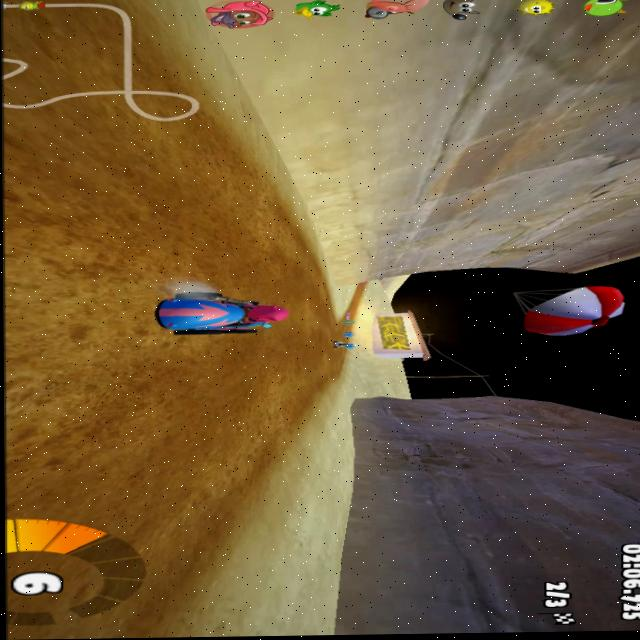bonus: (347, 329, 360, 337), (344, 320, 360, 324)
player_kart: (135, 292, 293, 341)
track: (2, 295, 137, 638), (1, 124, 241, 296), (136, 339, 286, 463), (7, 5, 148, 127), (135, 464, 259, 542), (139, 542, 221, 617), (241, 214, 288, 293), (290, 314, 341, 376), (148, 68, 196, 125), (288, 376, 331, 424), (301, 269, 323, 315), (341, 298, 369, 317), (351, 285, 372, 297)
